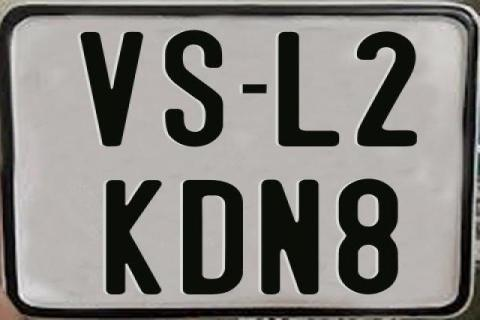0: (337, 179, 402, 295), (357, 31, 417, 151)
D: (183, 180, 249, 297)
K: (105, 178, 167, 294)
L: (275, 32, 341, 147)
N: (261, 177, 325, 297)
S: (164, 28, 223, 150)
V: (80, 30, 144, 148)
